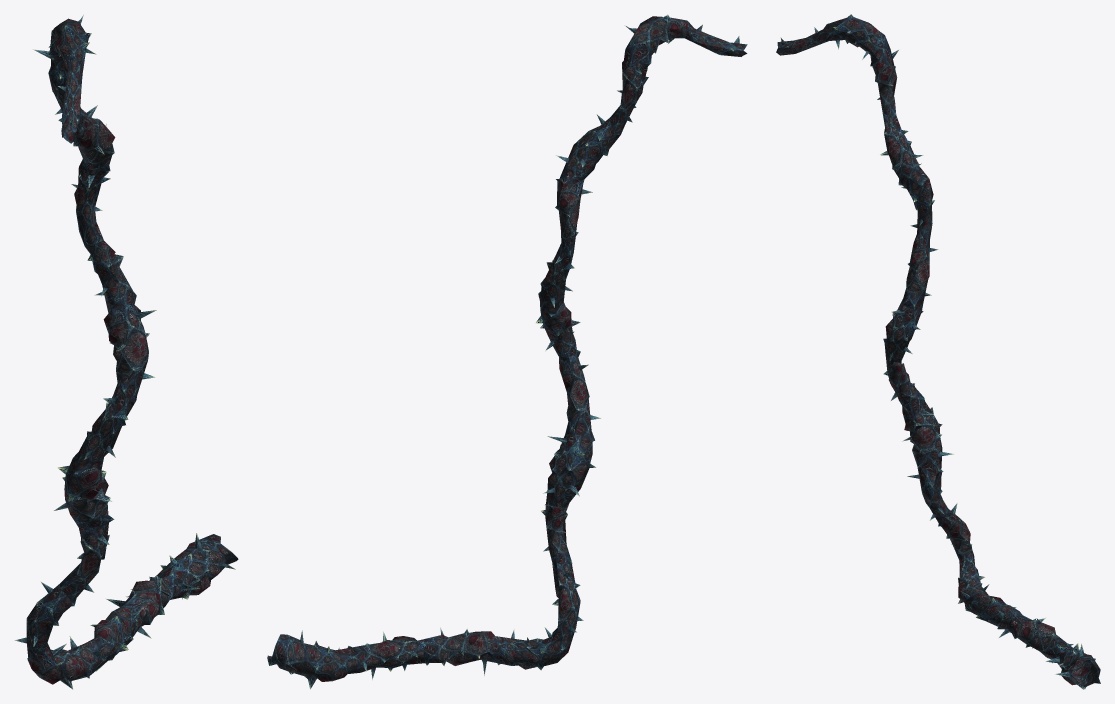
File: 02_09_Makaizyu_05.fbx
3 renders of one model, left to right at view 1: azimuth 30°, elevation 25°; view 2: azimuth 150°, elevation 25°; view 3: azimuth 270°, elevation 25°, orthographic. The views are drawn at different scales.
Visible parts, largest first — view 1: LODGroup_3_MainMesh_1_SubMesh_1; view 2: LODGroup_3_MainMesh_1_SubMesh_1; view 3: LODGroup_3_MainMesh_1_SubMesh_1.
Boxes of the visible parts, left/top/right/bottom form: LODGroup_3_MainMesh_1_SubMesh_1: left=14, top=14, right=238, bottom=689; LODGroup_3_MainMesh_1_SubMesh_1: left=267, top=14, right=747, bottom=689; LODGroup_3_MainMesh_1_SubMesh_1: left=776, top=14, right=1100, bottom=689.
Size of the model in its own units: 1120 by 2196 by 1124.
